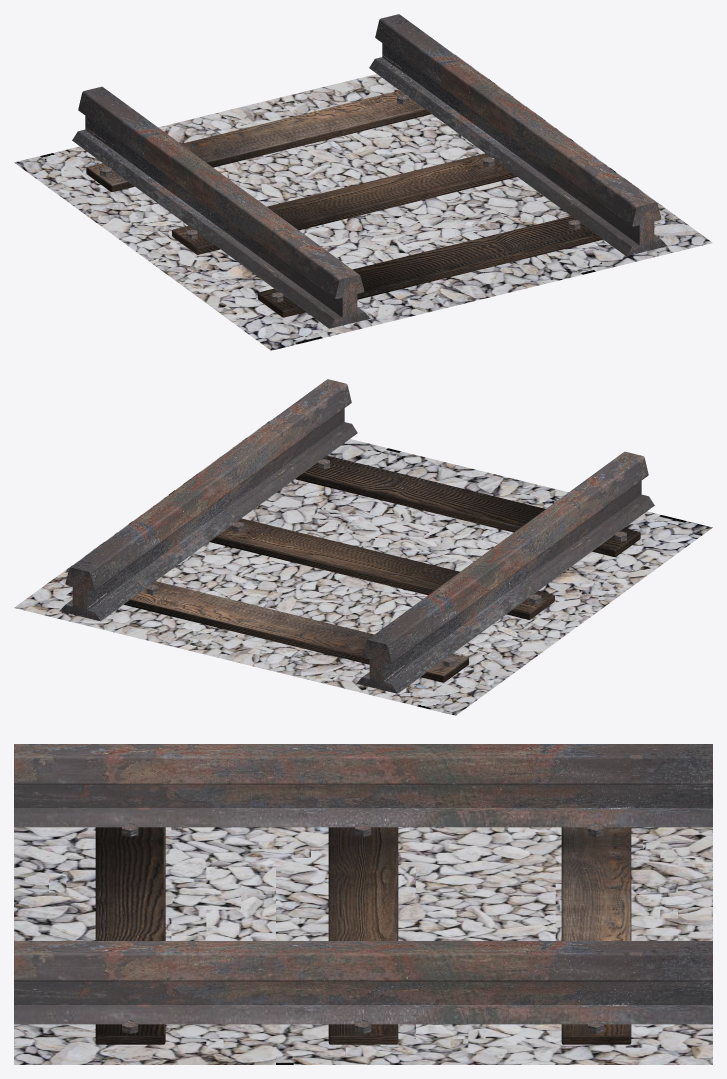
Rendered from rail_droit.obj.
3 views of the same model, one above another, from view 1: azimuth 30°, elevation 25°; view 2: azimuth 150°, elevation 25°; view 3: azimuth 270°, elevation 25° (orthographic). The views are drawn at different scales.
Visible parts, largest first — view 1: rails.001; view 2: rails.001; view 3: rails.001.
Part boxes in pixels (x1,y1,x2,y2): rails.001: [14, 14, 712, 350]; rails.001: [14, 379, 712, 715]; rails.001: [14, 744, 712, 1064].
Bounding box in the file's own units: 298 × 36.02 × 300.
Materials: 3 (2 with a texture image).
